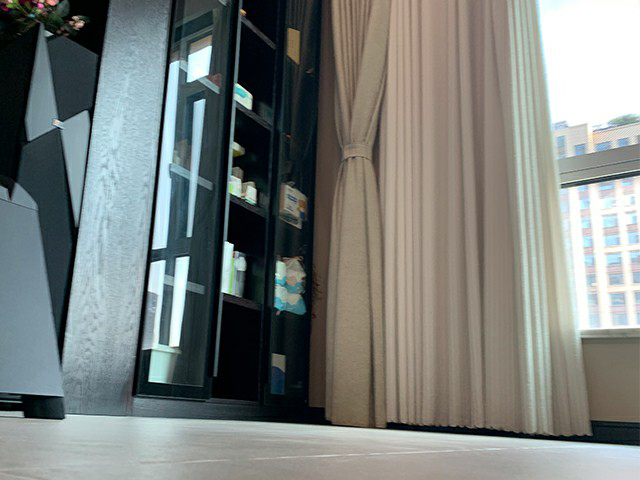cabinet: (69, 2, 309, 415)
curtain: (392, 1, 597, 439), (329, 1, 387, 429)
